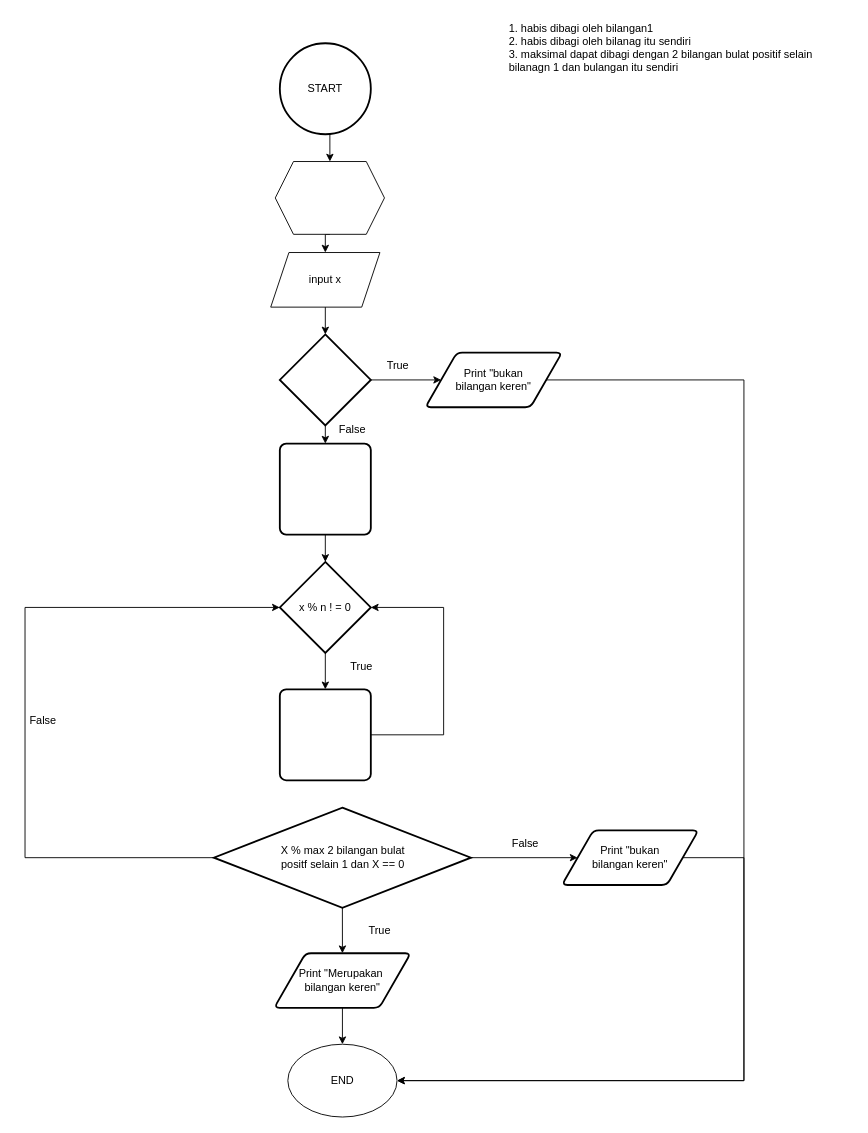
Some shapes in this 868 by 1133 pixel diagram are drawn without their labels. The box of each missing label's shape, as (x1, y1, x2, y2) in pixels:
int x, n: (274, 161, 384, 234)
n = 1: (278, 442, 371, 535)
n = n+1: (278, 688, 371, 781)
x < 1: (278, 333, 371, 426)
